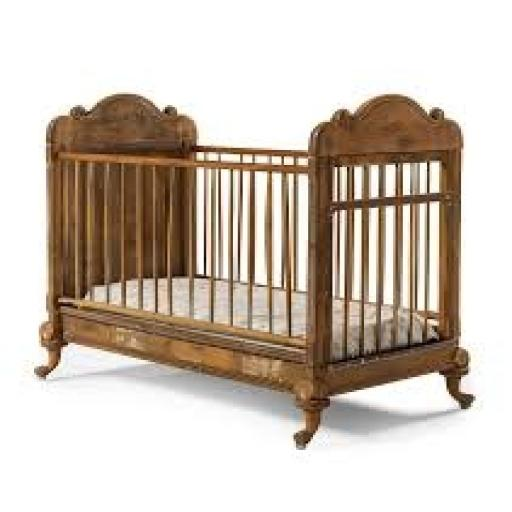crib: (37, 95, 473, 447)
